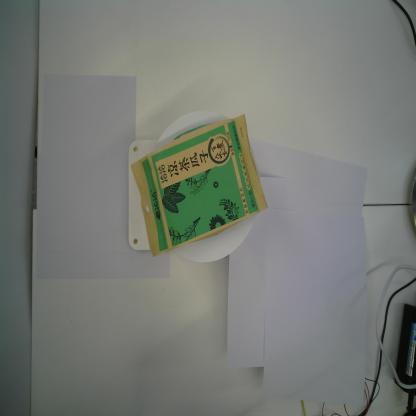Dried Food: (127, 111, 270, 260)
